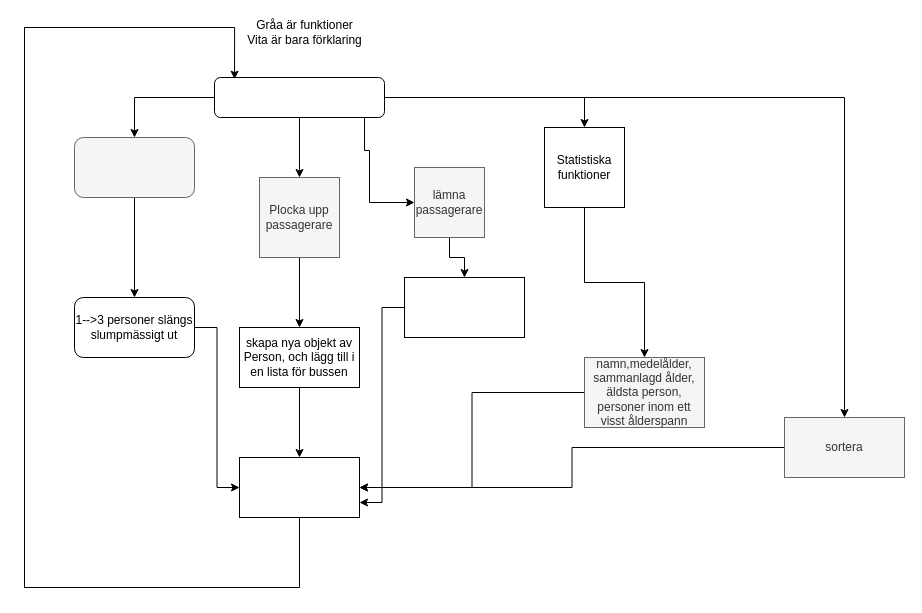
Some shapes in this 922 by 613 pixel diagram are drawn without their labels. The centre of each missing label's shape, as x and y in pixels:
meny: [299,97]
Meny- While loop: [299,487]
några slumpmässiga passagerare tas bort från listan: [464,307]
peta på de som inte betalar: [134,167]
